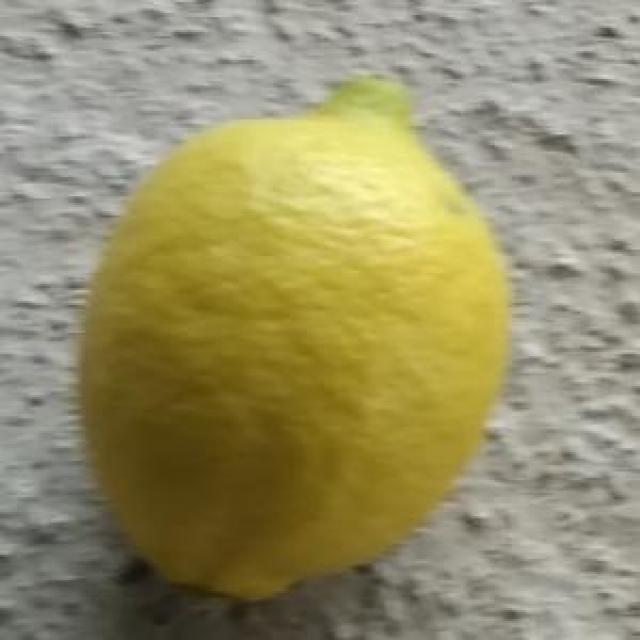lemon: (72, 65, 514, 607)
